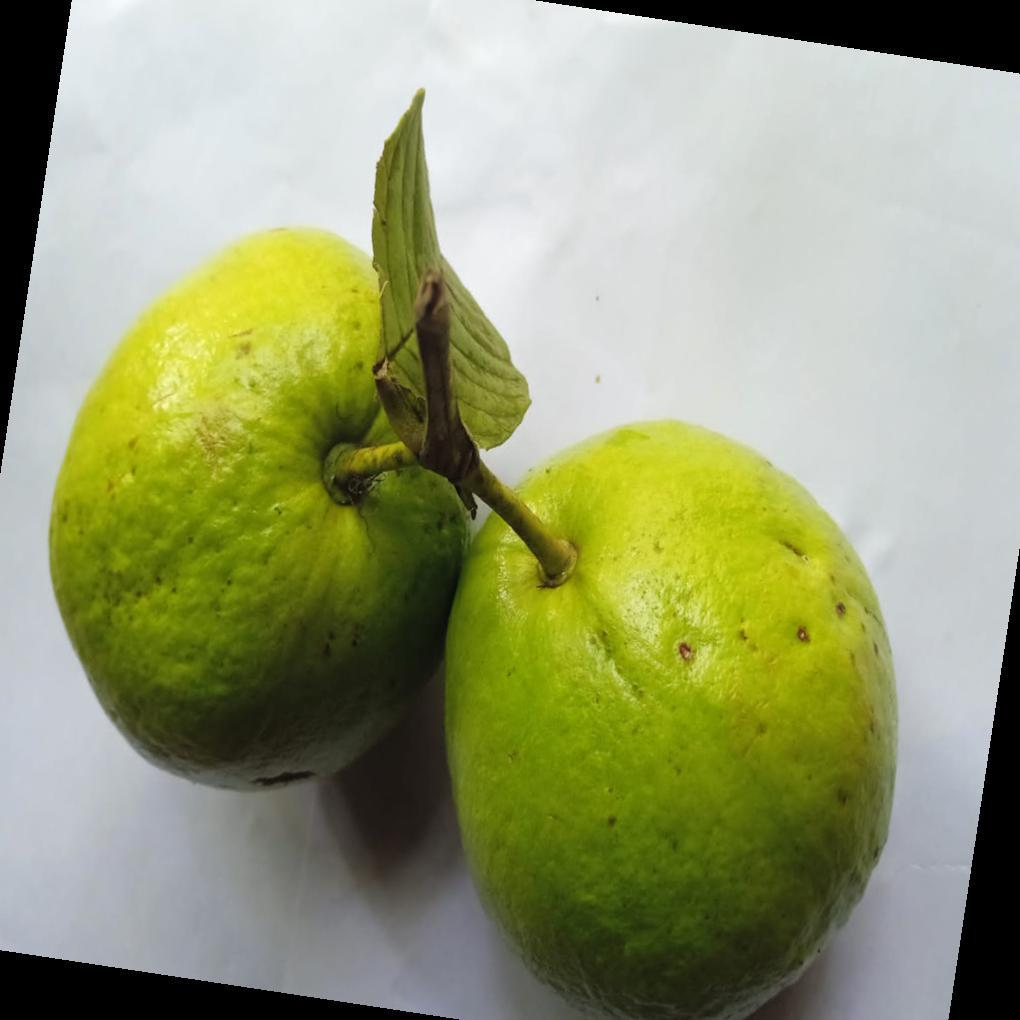FreshGuava: (46, 105, 900, 1020)
